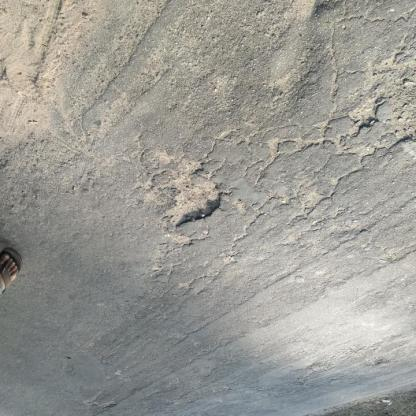pothole: (161, 166, 223, 231), (349, 98, 383, 130)
